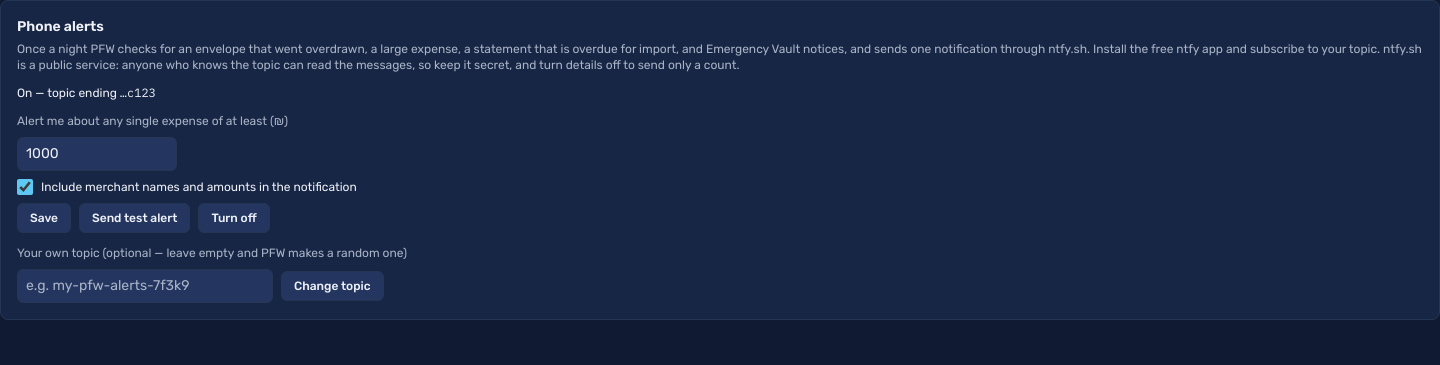
PhoneAlertsPanel › saves the threshold in shekels and the details switch
Replace the text in the field labelled "Alert me about any single expense of at least (₪)" with "2500.50" at (97, 154), box 17,137 -> 177,171
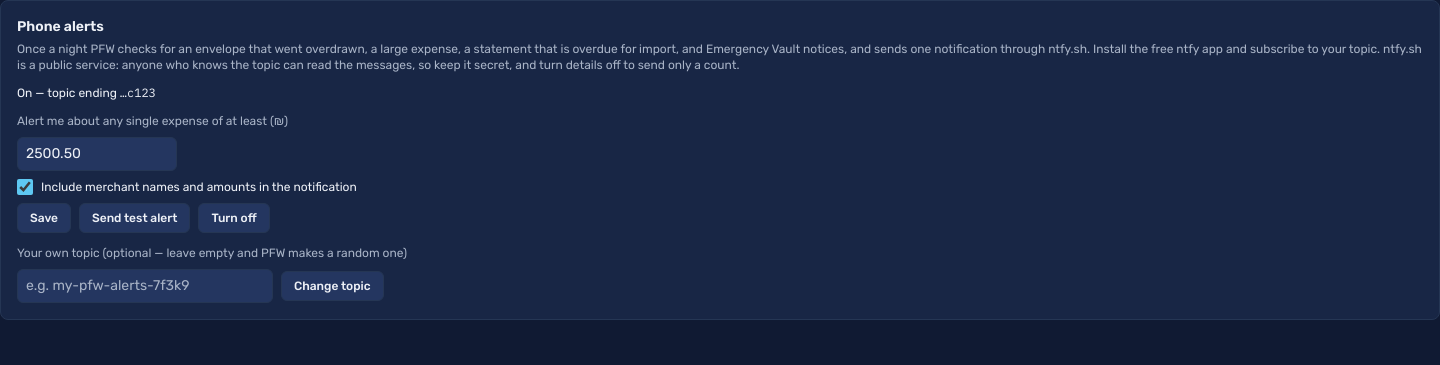
Click the checkbox labelled "Include merchant names and amounts in the notification" at (25, 187), box 17,179 -> 33,195
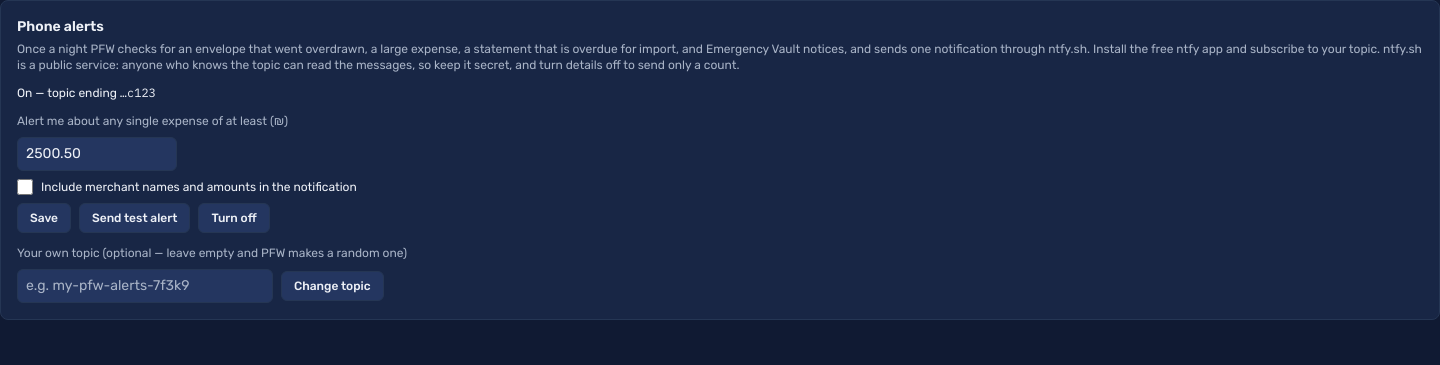
Click the button "Save" at (44, 218), box 17,203 -> 71,233
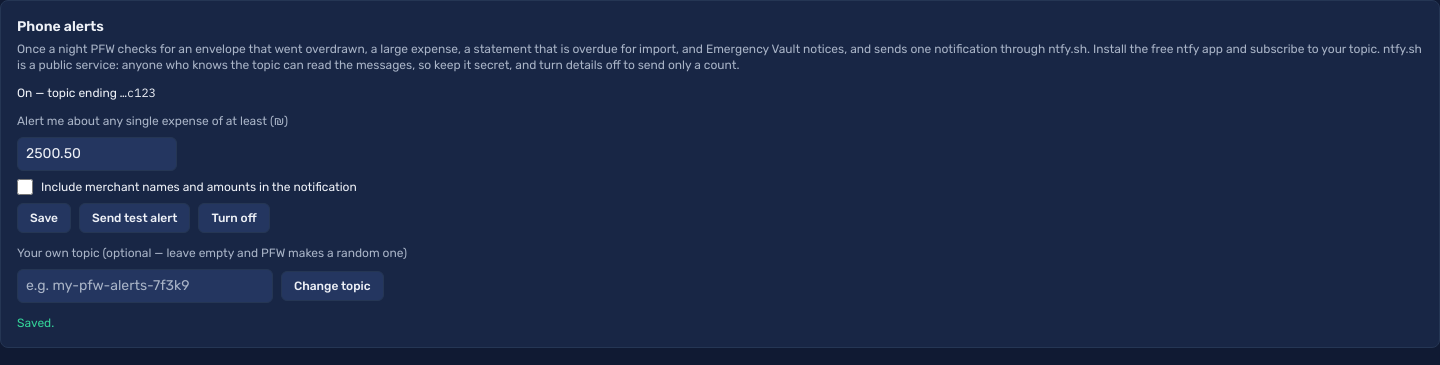
Now the text "Saved." is shown, box 17,316 -> 54,330
